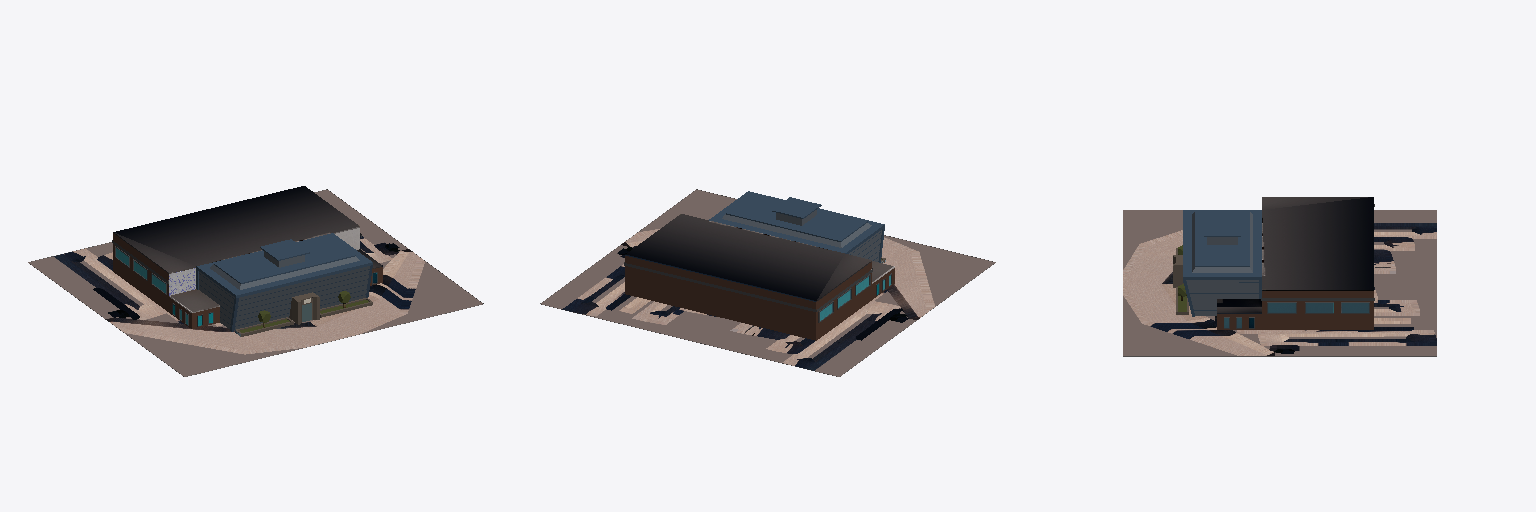
3 views of the same model, side by side, from view 1: azimuth 30°, elevation 25°; view 2: azimuth 150°, elevation 25°; view 3: azimuth 270°, elevation 25° (orthographic).
Parts seen in each view (by area): view 1: Mesh121 G_3DGeom_18 Assembly_5 SimLab_skp Assembly_2 Model, Mesh99 G_3DGeom_11 Assembly_5 SimLab_skp Assembly_2 Model, Mesh30 G_3DGeom_3 Assembly_5 SimLab_skp Assembly_2 Model, Mesh29 G_3DGeom_3 Assembly_5 SimLab_skp Assembly_2 Model, Mesh26 G_3DGeom_2 Assembly_5 SimLab_skp Assembly_2 Model, Mesh39 G_3DGeom_4 Assembly_5 SimLab_skp Assembly_2 Model, Mesh100 G_3DGeom_11 Assembly_5 SimLab_skp Assembly_2 Model, Mesh101 G_3DGeom_11 Assembly_5 SimLab_skp Assembly_2 Model, Mesh31 G_3DGeom_3 Assembly_5 SimLab_skp Assembly_2 Model, Mesh122 Model, Mesh113 G_3DGeom_15 Assembly_5 SimLab_skp Assembly_2 Model, Mesh48 G_3DGeom_4 Assembly_5 SimLab_skp Assembly_2 Model (+1 smaller); view 2: Mesh121 G_3DGeom_18 Assembly_5 SimLab_skp Assembly_2 Model, Mesh99 G_3DGeom_11 Assembly_5 SimLab_skp Assembly_2 Model, Mesh28 G_3DGeom_2 Assembly_5 SimLab_skp Assembly_2 Model, Mesh30 G_3DGeom_3 Assembly_5 SimLab_skp Assembly_2 Model, Mesh26 G_3DGeom_2 Assembly_5 SimLab_skp Assembly_2 Model, Mesh29 G_3DGeom_3 Assembly_5 SimLab_skp Assembly_2 Model, Mesh39 G_3DGeom_4 Assembly_5 SimLab_skp Assembly_2 Model, Mesh100 G_3DGeom_11 Assembly_5 SimLab_skp Assembly_2 Model, Mesh72 G_3DGeom_6 Assembly_5 SimLab_skp Assembly_2 Model, Mesh31 G_3DGeom_3 Assembly_5 SimLab_skp Assembly_2 Model; view 3: Mesh121 G_3DGeom_18 Assembly_5 SimLab_skp Assembly_2 Model, Mesh99 G_3DGeom_11 Assembly_5 SimLab_skp Assembly_2 Model, Mesh27 G_3DGeom_2 Assembly_5 SimLab_skp Assembly_2 Model, Mesh30 G_3DGeom_3 Assembly_5 SimLab_skp Assembly_2 Model, Mesh29 G_3DGeom_3 Assembly_5 SimLab_skp Assembly_2 Model, Mesh100 G_3DGeom_11 Assembly_5 SimLab_skp Assembly_2 Model, Mesh39 G_3DGeom_4 Assembly_5 SimLab_skp Assembly_2 Model, Mesh98 G_3DGeom_11 Assembly_5 SimLab_skp Assembly_2 Model, Mesh31 G_3DGeom_3 Assembly_5 SimLab_skp Assembly_2 Model.
Part boxes in pixels (x1,y1,x2,y2): Mesh121 G_3DGeom_18 Assembly_5 SimLab_skp Assembly_2 Model: (28,190,482,376); Mesh99 G_3DGeom_11 Assembly_5 SimLab_skp Assembly_2 Model: (114,186,359,265); Mesh30 G_3DGeom_3 Assembly_5 SimLab_skp Assembly_2 Model: (214,235,355,283); Mesh29 G_3DGeom_3 Assembly_5 SimLab_skp Assembly_2 Model: (196,233,372,331); Mesh26 G_3DGeom_2 Assembly_5 SimLab_skp Assembly_2 Model: (113,233,219,328); Mesh39 G_3DGeom_4 Assembly_5 SimLab_skp Assembly_2 Model: (210,256,359,289); Mesh100 G_3DGeom_11 Assembly_5 SimLab_skp Assembly_2 Model: (113,232,195,273); Mesh101 G_3DGeom_11 Assembly_5 SimLab_skp Assembly_2 Model: (169,289,219,312); Mesh31 G_3DGeom_3 Assembly_5 SimLab_skp Assembly_2 Model: (260,239,309,260); Mesh122 Model: (169,268,195,295); Mesh113 G_3DGeom_15 Assembly_5 SimLab_skp Assembly_2 Model: (289,292,319,324); Mesh48 G_3DGeom_4 Assembly_5 SimLab_skp Assembly_2 Model: (238,270,369,305); Mesh121 G_3DGeom_18 Assembly_5 SimLab_skp Assembly_2 Model: (541,190,995,376); Mesh99 G_3DGeom_11 Assembly_5 SimLab_skp Assembly_2 Model: (625,214,844,300); Mesh28 G_3DGeom_2 Assembly_5 SimLab_skp Assembly_2 Model: (625,256,815,340); Mesh30 G_3DGeom_3 Assembly_5 SimLab_skp Assembly_2 Model: (726,193,867,241); Mesh26 G_3DGeom_2 Assembly_5 SimLab_skp Assembly_2 Model: (816,263,894,340); Mesh29 G_3DGeom_3 Assembly_5 SimLab_skp Assembly_2 Model: (709,191,884,262); Mesh39 G_3DGeom_4 Assembly_5 SimLab_skp Assembly_2 Model: (722,214,871,247); Mesh100 G_3DGeom_11 Assembly_5 SimLab_skp Assembly_2 Model: (816,254,871,301); Mesh72 G_3DGeom_6 Assembly_5 SimLab_skp Assembly_2 Model: (624,262,872,311); Mesh31 G_3DGeom_3 Assembly_5 SimLab_skp Assembly_2 Model: (772,197,821,218); Mesh121 G_3DGeom_18 Assembly_5 SimLab_skp Assembly_2 Model: (1123,210,1436,355); Mesh99 G_3DGeom_11 Assembly_5 SimLab_skp Assembly_2 Model: (1262,197,1373,290); Mesh27 G_3DGeom_2 Assembly_5 SimLab_skp Assembly_2 Model: (1217,291,1373,329); Mesh30 G_3DGeom_3 Assembly_5 SimLab_skp Assembly_2 Model: (1195,210,1249,266); Mesh29 G_3DGeom_3 Assembly_5 SimLab_skp Assembly_2 Model: (1183,210,1261,316); Mesh100 G_3DGeom_11 Assembly_5 SimLab_skp Assembly_2 Model: (1262,197,1367,209); Mesh39 G_3DGeom_4 Assembly_5 SimLab_skp Assembly_2 Model: (1192,212,1252,272); Mesh98 G_3DGeom_11 Assembly_5 SimLab_skp Assembly_2 Model: (1217,299,1261,313); Mesh31 G_3DGeom_3 Assembly_5 SimLab_skp Assembly_2 Model: (1204,221,1240,236).
Bounding box in the file's own units: 55.15 × 9.65 × 50.
30 materials, 19 textured.